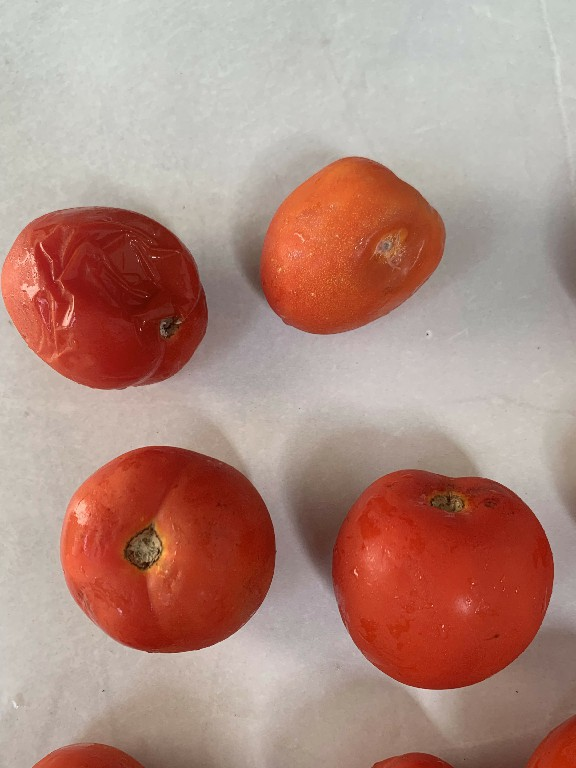NG: (0, 193, 210, 396), (253, 150, 451, 339)
OK: (317, 463, 554, 687), (52, 446, 281, 657)
